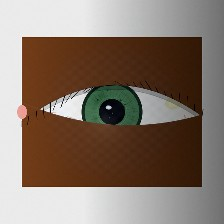pinguecula_lesion: (157, 90, 189, 116)
